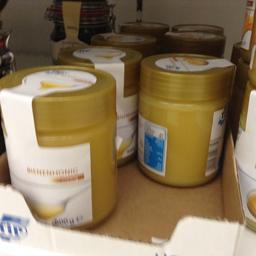honey: (0, 64, 120, 229), (137, 52, 239, 188)
